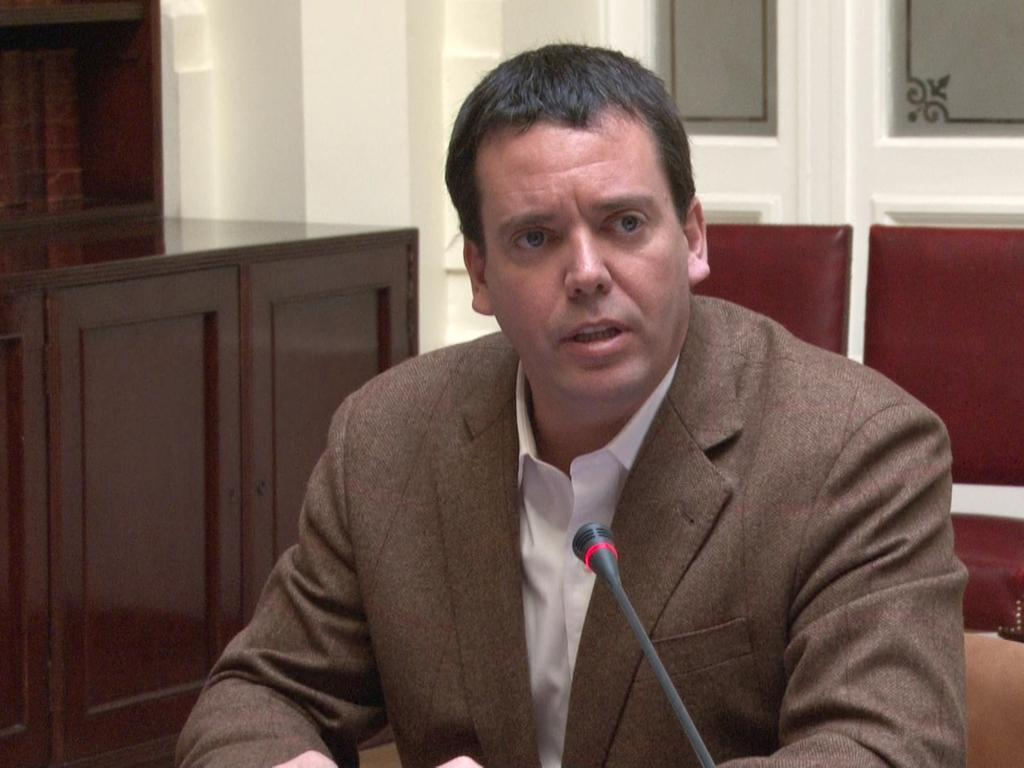Sem Máscara: (473, 111, 692, 399)
